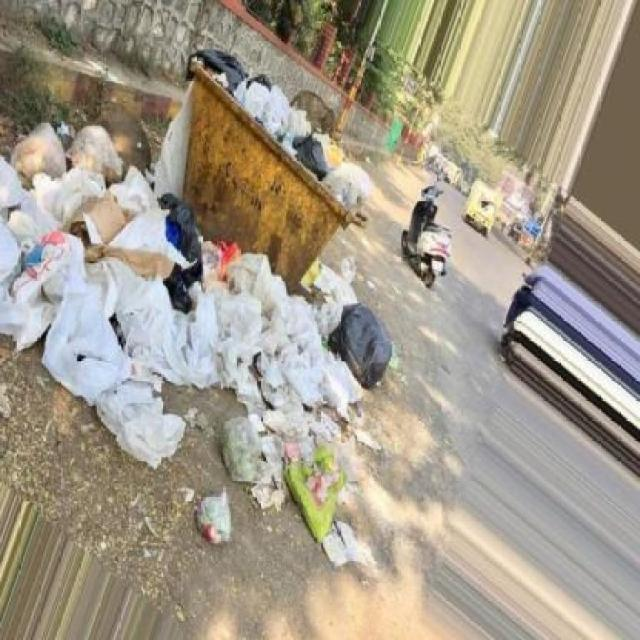garbage: (145, 260, 375, 529), (17, 129, 172, 379), (188, 56, 358, 215)
